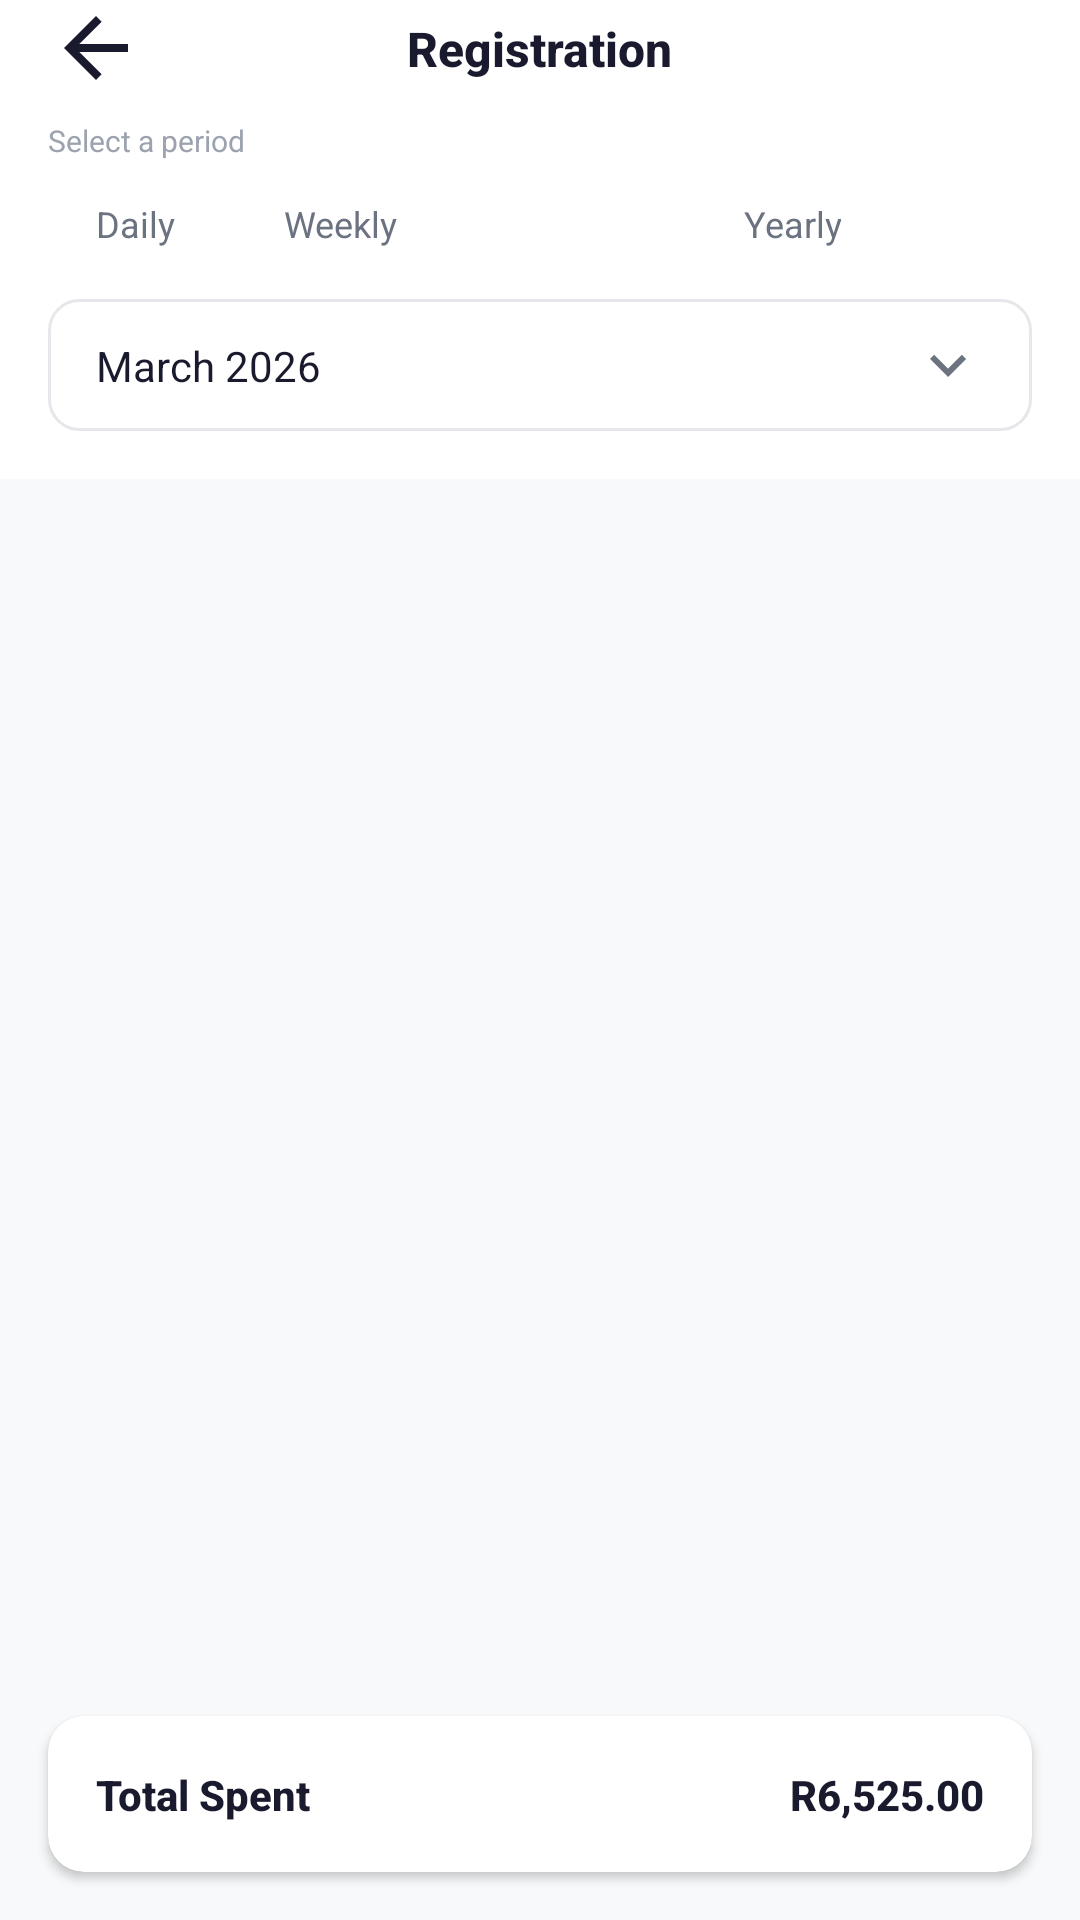

Locate icon controls on the screen. Image size 1080 × 1920, boxes as detection(x1, y1, x2, y2).
Back: detection(64, 16, 128, 80)
chevron down: detection(930, 355, 966, 377)
